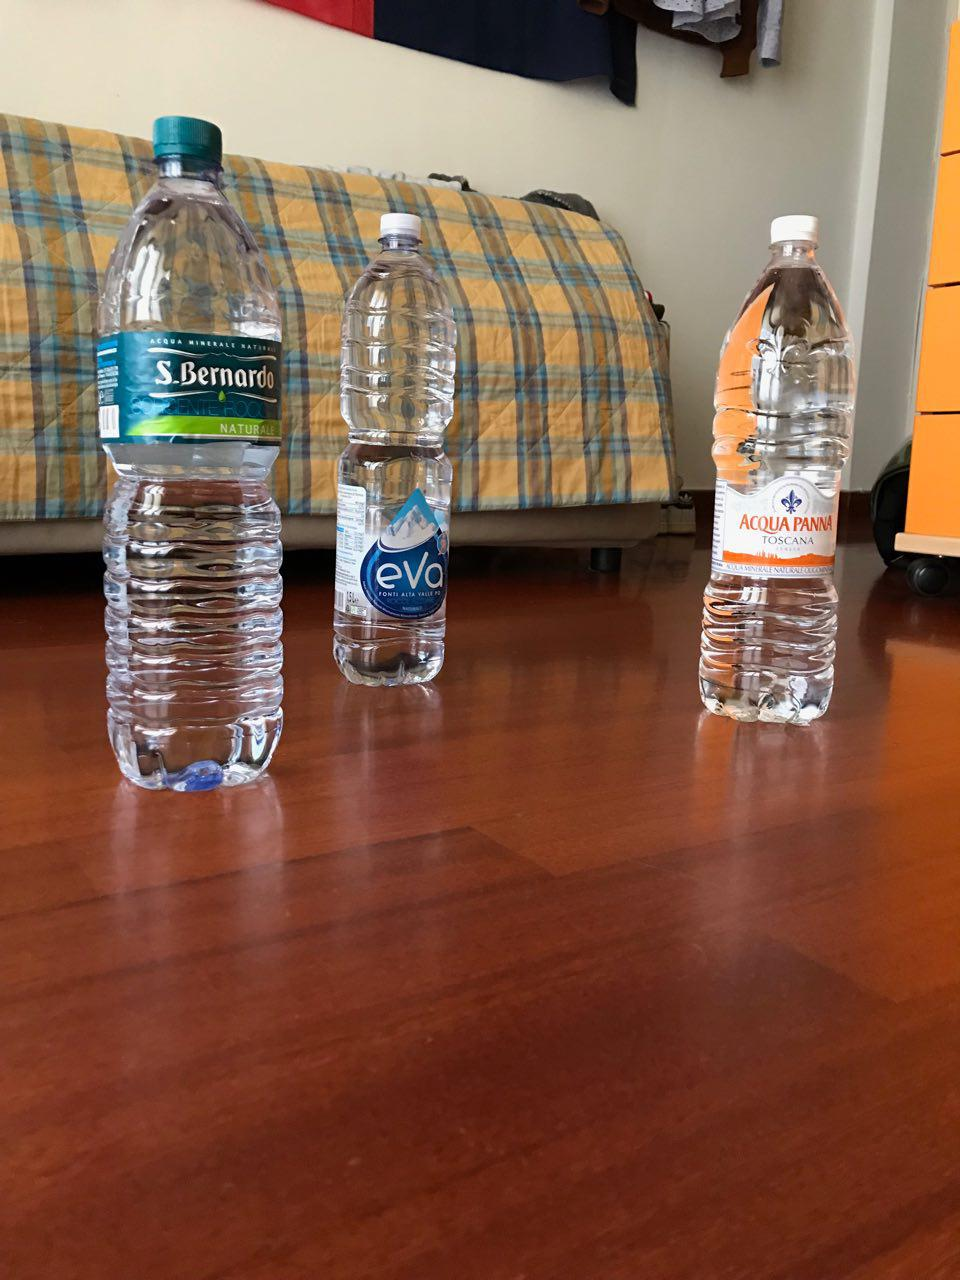san_bernardo: (95, 115, 285, 792)
